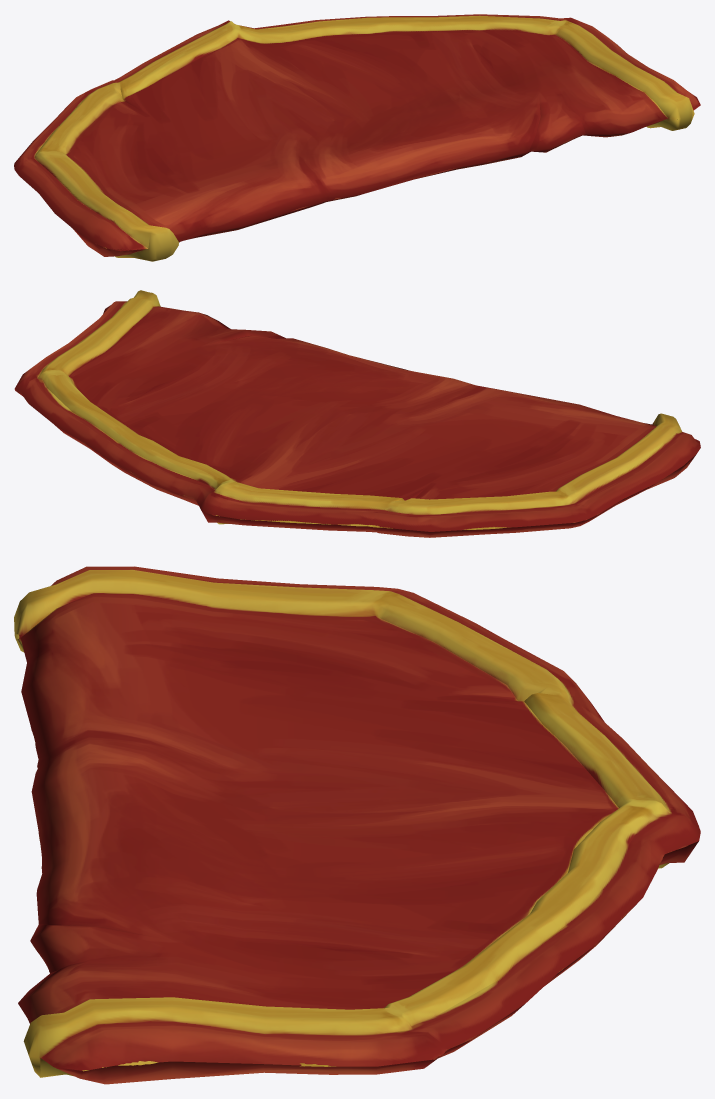
The model's file is Flag_3D_Large.fbx.
3 renders of one model, top to bottom at view 1: azimuth 30°, elevation 25°; view 2: azimuth 150°, elevation 25°; view 3: azimuth 270°, elevation 25°, orthographic. The views are drawn at different scales.
Parts seen in each view (by area): view 1: Flag_3D_Large; view 2: Flag_3D_Large; view 3: Flag_3D_Large.
Boxes of the visible parts, left/top/right/bottom form: Flag_3D_Large: left=14, top=14, right=700, bottom=261; Flag_3D_Large: left=14, top=290, right=700, bottom=537; Flag_3D_Large: left=14, top=566, right=700, bottom=1084.
Bounding box in the file's own units: 4.72 × 0.3262 × 2.81.
